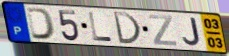5: (57, 9, 80, 42)
D: (26, 6, 57, 41), (112, 11, 143, 46)
J: (181, 17, 202, 47)
L: (87, 11, 115, 43)
Z: (147, 14, 179, 47)
